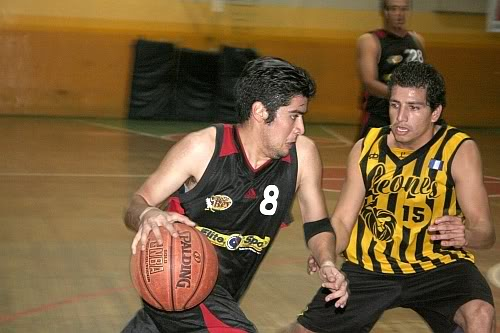basketball: (130, 223, 218, 312)
